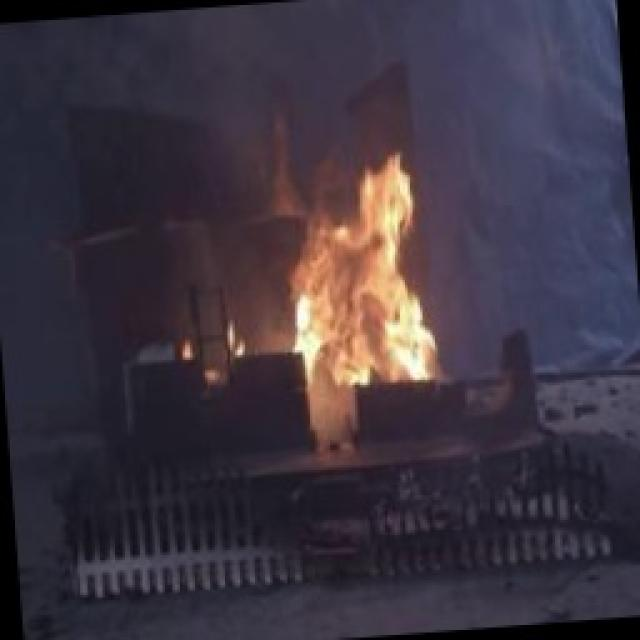fire: (269, 132, 451, 412)
